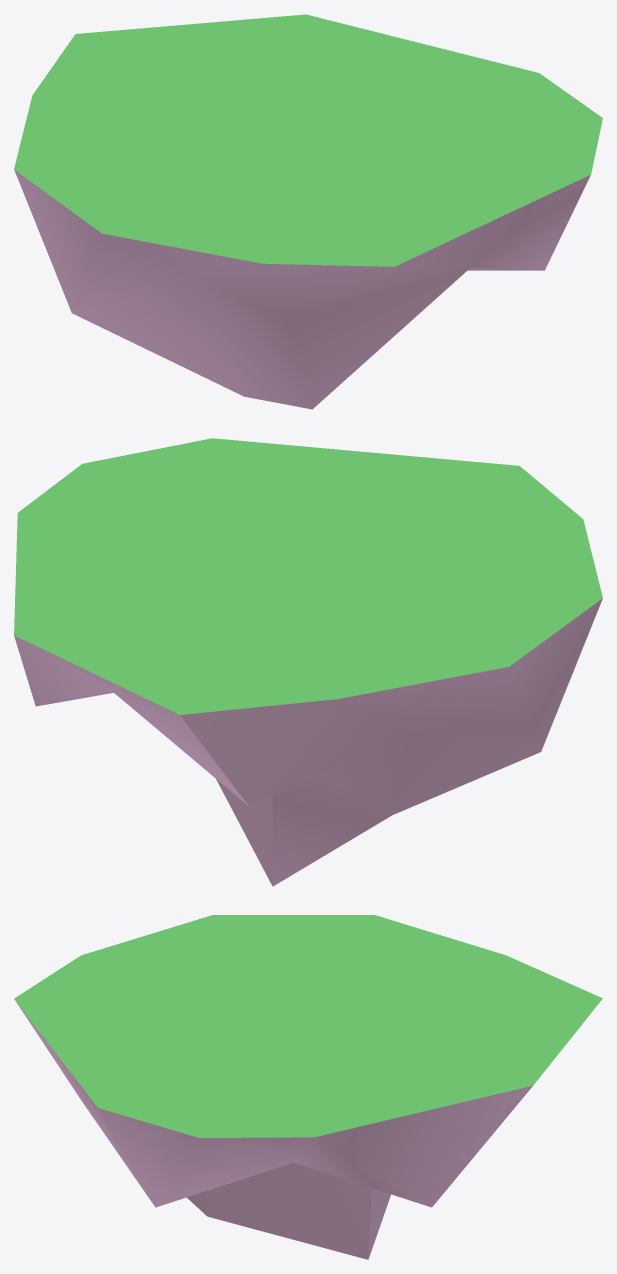
File: island.glb
The picture shows the model from 3 angles, top to bottom: view 1: azimuth 30°, elevation 25°; view 2: azimuth 150°, elevation 25°; view 3: azimuth 270°, elevation 25°; orthographic projection. The views are drawn at different scales.
Visible parts, largest first — view 1: island1; view 2: island1; view 3: island1.
Boxes of the visible parts, left/top/right/bottom form: island1: left=14, top=14, right=602, bottom=409; island1: left=14, top=438, right=602, bottom=886; island1: left=14, top=915, right=602, bottom=1259.
Bounding box in the file's own units: 208 × 106 × 233.
